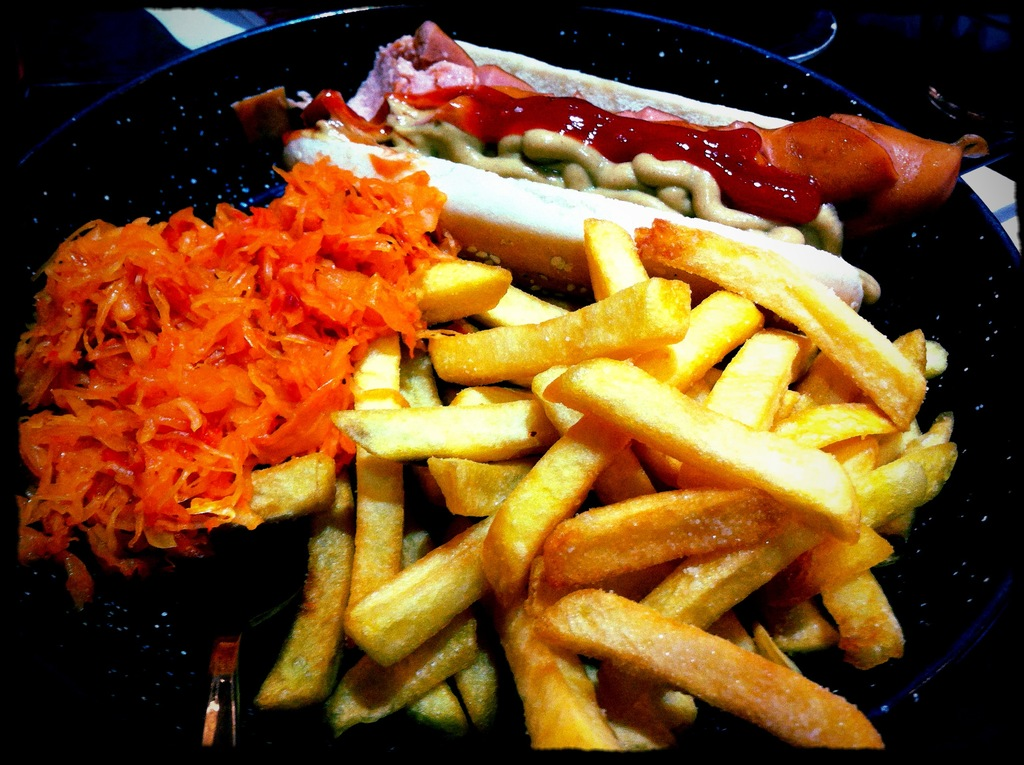French fries: (189, 211, 956, 764)
